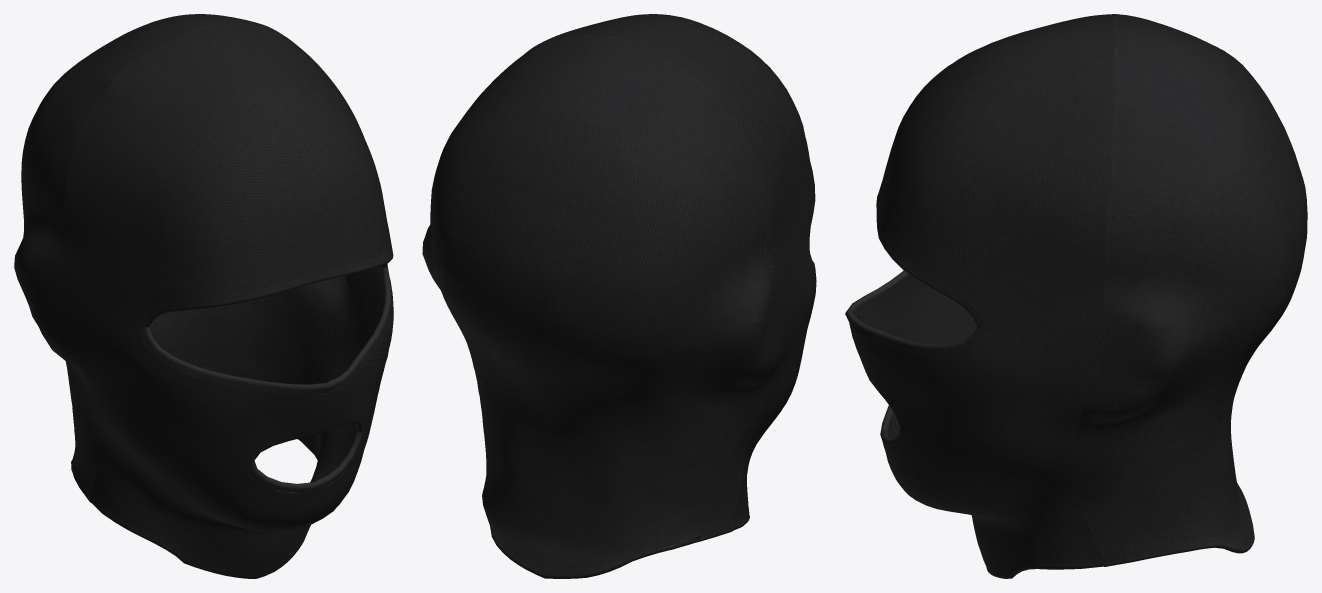
File: ski_balaclava.glb
3 views of the same model, side by side, from view 1: azimuth 30°, elevation 25°; view 2: azimuth 150°, elevation 25°; view 3: azimuth 270°, elevation 25° (orthographic). The views are drawn at different scales.
Visible parts, largest first — view 1: balaclava_uv; view 2: balaclava_uv; view 3: balaclava_uv.
Boxes of the visible parts, x1,y1,x2,y2 form: balaclava_uv: (14,14,393,578); balaclava_uv: (422,14,816,578); balaclava_uv: (845,14,1307,578).
Size of the model in its own units: 18.8 by 28.09 by 21.82.
Materials: 1 (1 with a texture image).
